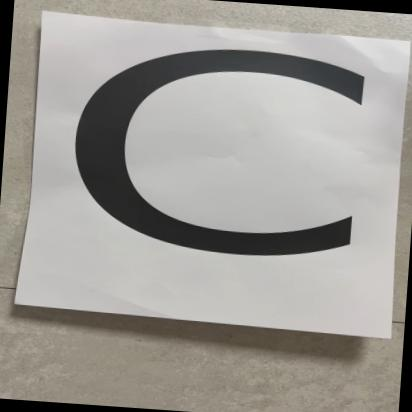seat: (27, 19, 411, 332)
